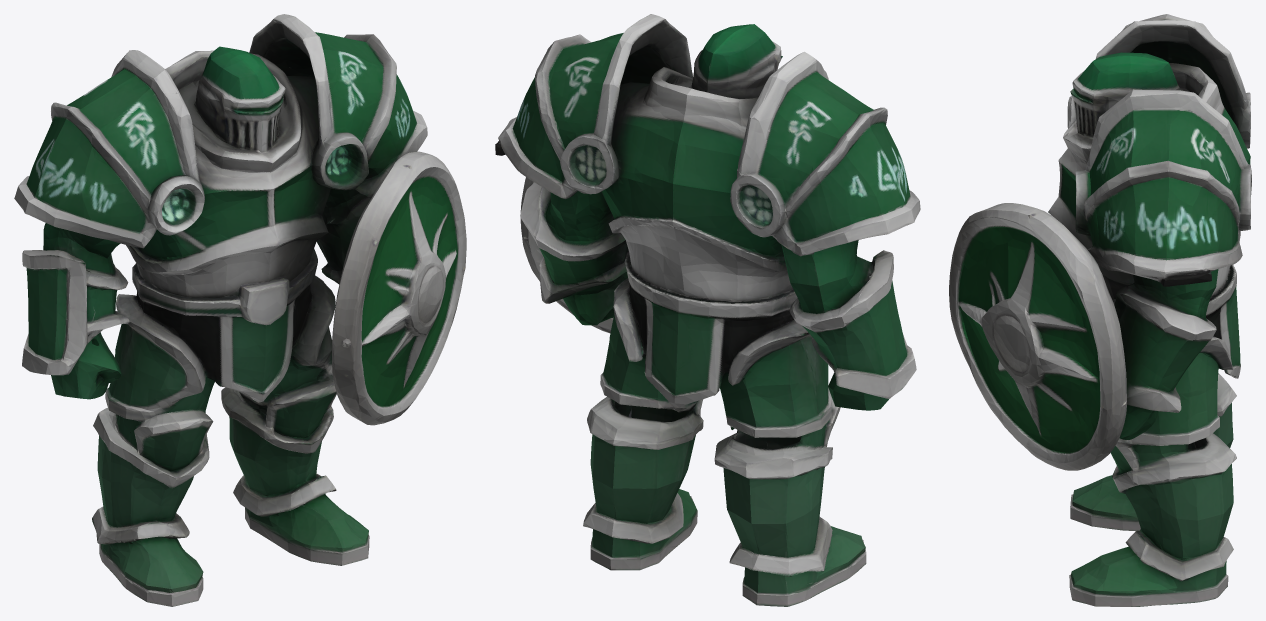
File: Unit-00.glb
3 renders of one model, left to right at view 1: azimuth 30°, elevation 25°; view 2: azimuth 150°, elevation 25°; view 3: azimuth 270°, elevation 25°, orthographic. The views are drawn at different scales.
Parts seen in each view (by area): view 1: world; view 2: world; view 3: world.
Boxes of the visible parts, left/top/right/bottom form: world: left=14, top=14, right=466, bottom=606; world: left=495, top=14, right=920, bottom=606; world: left=949, top=14, right=1251, bottom=606.
Bounding box in the file's own units: 0.8477 × 1 × 0.5514.
1 material, 1 textured.
